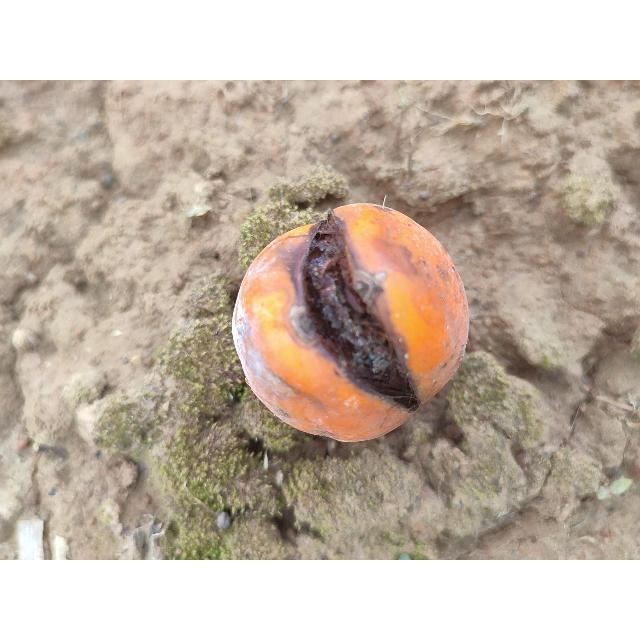damaged: (231, 204, 469, 445)
